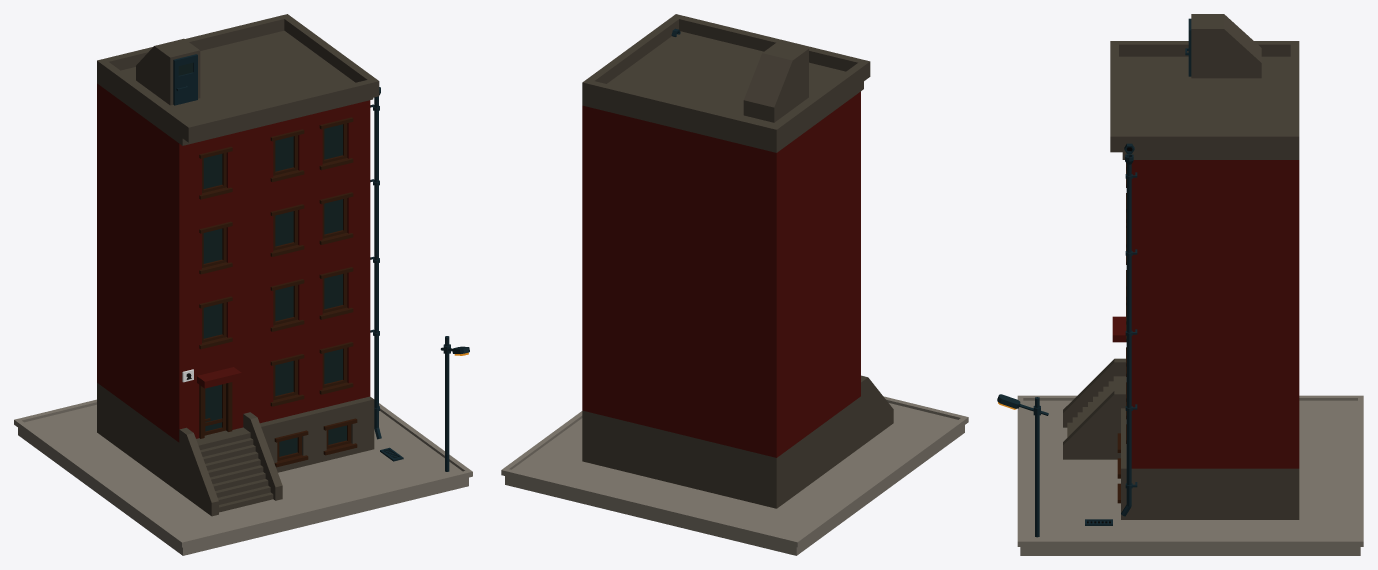
Rendered from SF_House02.fbx.
3 views of the same model, side by side, from view 1: azimuth 30°, elevation 25°; view 2: azimuth 150°, elevation 25°; view 3: azimuth 270°, elevation 25° (orthographic). The views are drawn at different scales.
Visible parts, largest first — view 1: Box15819, Plane090, Object298, Box15823, Box15822, StraightStair010, Plane092, Rectangle021, Box15820, Cylinder1709, Box15821, Object293 (+3 smaller); view 2: Box15819, Object298, Plane090, Box15822, Rectangle021, Box15820, StraightStair010; view 3: Box15819, Plane090, Object298, Box15822, Rectangle021, StraightStair010, Box15820, Cylinder1709, street_light_02, Box15823.
Part boxes in pixels (x1,y1,x2,y2): Box15819: (97, 83, 370, 442); Plane090: (18, 404, 468, 555); Object298: (97, 14, 379, 145); Box15823: (199, 117, 357, 467); Box15822: (97, 383, 374, 492); StraightStair010: (179, 412, 282, 516); Plane092: (203, 124, 342, 395); Rectangle021: (14, 399, 472, 547); Box15820: (136, 38, 200, 105); Cylinder1709: (374, 87, 381, 439); Box15821: (173, 54, 197, 105); Object293: (199, 382, 232, 438); Box15819: (582, 91, 860, 457); Object298: (582, 14, 870, 152); Plane090: (505, 403, 964, 555); Box15822: (582, 396, 860, 508); Rectangle021: (501, 396, 968, 547); Box15820: (743, 41, 808, 122); StraightStair010: (861, 375, 893, 446); Box15819: (1112, 160, 1299, 468); Plane090: (1020, 400, 1360, 555); Object298: (1110, 41, 1299, 159); Box15822: (1121, 408, 1299, 519); Rectangle021: (1017, 395, 1363, 546); StraightStair010: (1063, 358, 1126, 459); Box15820: (1191, 14, 1261, 78); Cylinder1709: (1121, 154, 1133, 516); street_light_02: (997, 394, 1048, 537); Box15823: (1117, 163, 1126, 503).
Size of the model in its own units: 1220 by 1686 by 1291.
